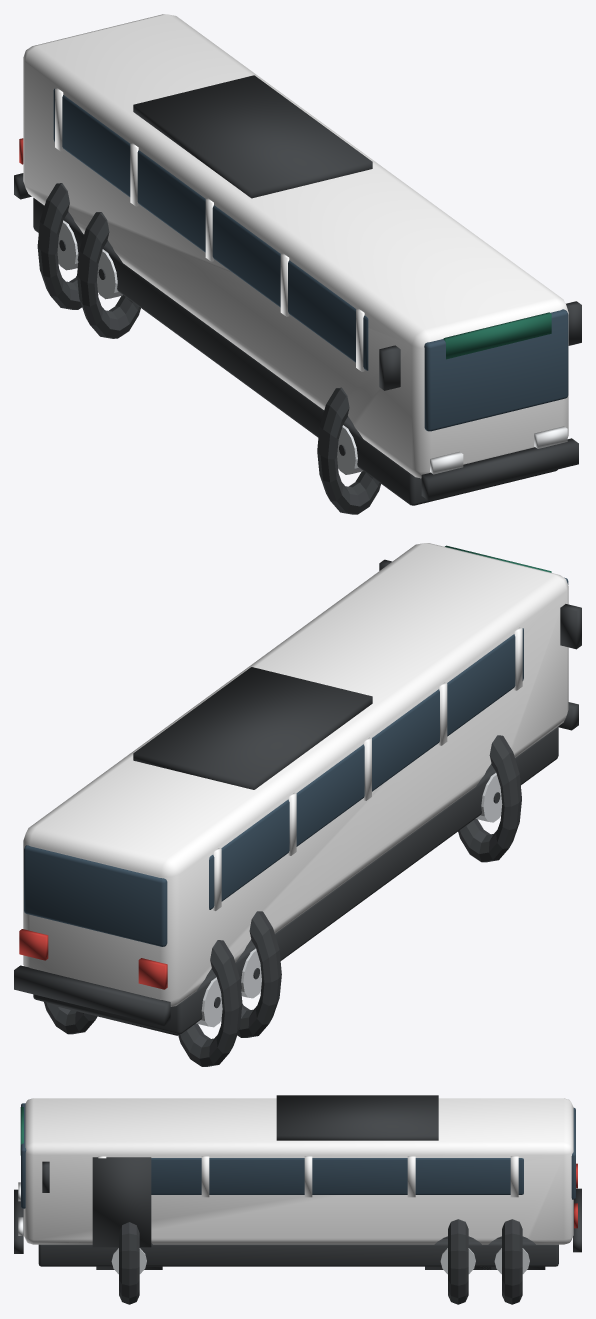
File: bus.glb
3 views of the same model, one above another, from view 1: azimuth 30°, elevation 25°; view 2: azimuth 150°, elevation 25°; view 3: azimuth 270°, elevation 25° (orthographic). The views are drawn at different scales.
Visible parts, largest first — view 1: bus_body, bus_roofac, bus_glassband, bus_wind, bus_skirt, bus_bumper, bus_w_tire.003, bus_w_tire.004, bus_w_tire.005, bus_dest, bus_mirror, bus_w_rim.003 (+2 smaller); view 2: bus_body, bus_roofac, bus_glassband, bus_skirt, bus_rearw, bus_bumper_r, bus_w_tire.005, bus_w_tire.003, bus_w_tire.004, bus_w_tire.002, bus_mirror, bus_tl (+4 smaller); view 3: bus_body, bus_glassband, bus_skirt, bus_roofac, bus_door, bus_w_tire.001, bus_w_tire.002, bus_w_tire, bus_bumper, bus_bumper_r, bus_wind, bus_pillar.008 (+7 smaller).
Boxes of the visible parts, left/top/right/bottom form: bus_body: left=23, top=14, right=568, bottom=478; bus_roofac: left=133, top=75, right=372, bottom=198; bus_glassband: left=53, top=88, right=368, bottom=370; bus_wind: left=424, top=309, right=568, bottom=431; bus_skirt: left=33, top=198, right=557, bottom=505; bus_bumper: left=421, top=438, right=578, bottom=500; bus_w_tire.003: left=317, top=387, right=380, bottom=514; bus_w_tire.004: left=77, top=212, right=140, bottom=338; bus_w_tire.005: left=37, top=183, right=81, bottom=309; bus_dest: left=443, top=312, right=551, bottom=359; bus_mirror: left=379, top=345, right=400, bottom=390; bus_w_rim.003: left=337, top=425, right=363, bottom=474; bus_body: left=23, top=543, right=568, bottom=1006; bus_roofac: left=133, top=667, right=372, bottom=789; bus_glassband: left=209, top=628, right=523, bottom=909; bus_skirt: left=33, top=726, right=558, bottom=1034; bus_rearw: left=24, top=845, right=167, bottom=946; bus_bumper_r: left=14, top=965, right=170, bottom=1025; bus_w_tire.005: left=178, top=940, right=242, bottom=1066; bus_w_tire.003: left=458, top=735, right=521, bottom=862; bus_w_tire.004: left=237, top=911, right=281, bottom=1037; bus_w_tire.002: left=44, top=1002, right=97, bottom=1034; bus_mirror: left=560, top=604, right=581, bottom=649; bus_tl: left=138, top=958, right=167, bottom=989; bus_body: left=23, top=1098, right=573, bottom=1244; bus_glassband: left=151, top=1158, right=523, bottom=1194; bus_skirt: left=38, top=1239, right=558, bottom=1266; bus_roofac: left=276, top=1095, right=438, bottom=1140; bus_door: left=92, top=1157, right=151, bottom=1247; bus_w_tire.001: left=448, top=1219, right=468, bottom=1304; bus_w_tire.002: left=502, top=1219, right=522, bottom=1304; bus_w_tire: left=119, top=1222, right=139, bottom=1304; bus_bumper: left=14, top=1189, right=23, bottom=1253; bus_bumper_r: left=573, top=1188, right=581, bottom=1252; bus_wind: left=21, top=1103, right=26, bottom=1208; bus_pillar.008: left=407, top=1156, right=415, bottom=1197.
Bounding box in the file's own units: 3.19 × 3.74 × 11.57.
